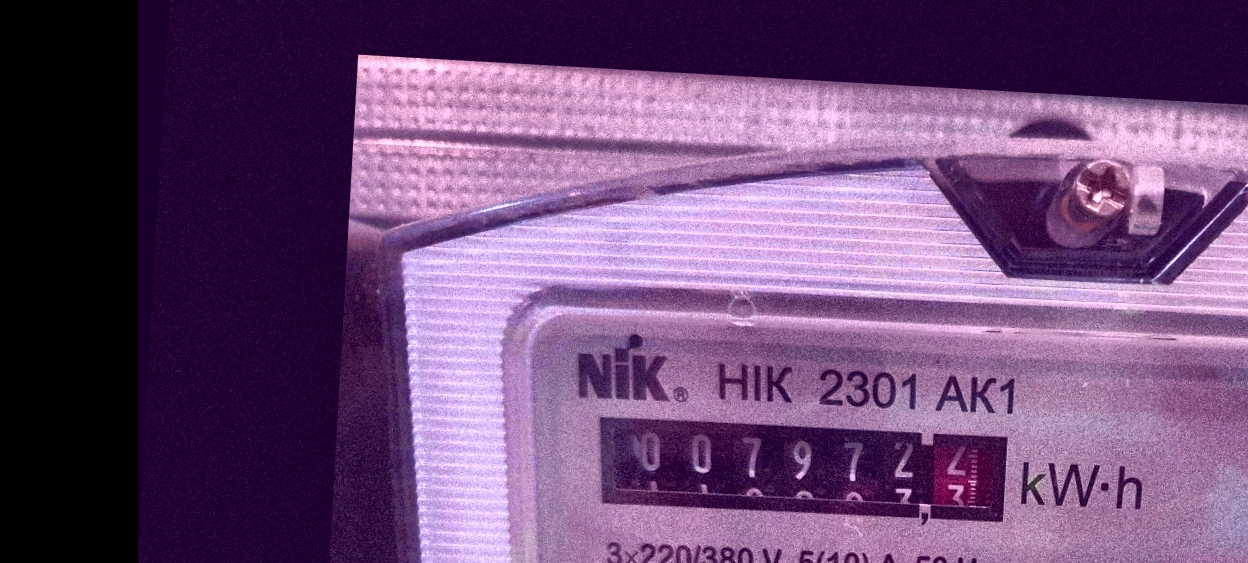0: (638, 428, 666, 471), (689, 430, 716, 473)
2: (892, 440, 918, 479), (944, 442, 969, 477)
3: (945, 480, 968, 506)
7: (840, 437, 868, 484), (739, 433, 765, 479)
9: (790, 436, 814, 480)
screen: (579, 400, 1027, 539)
